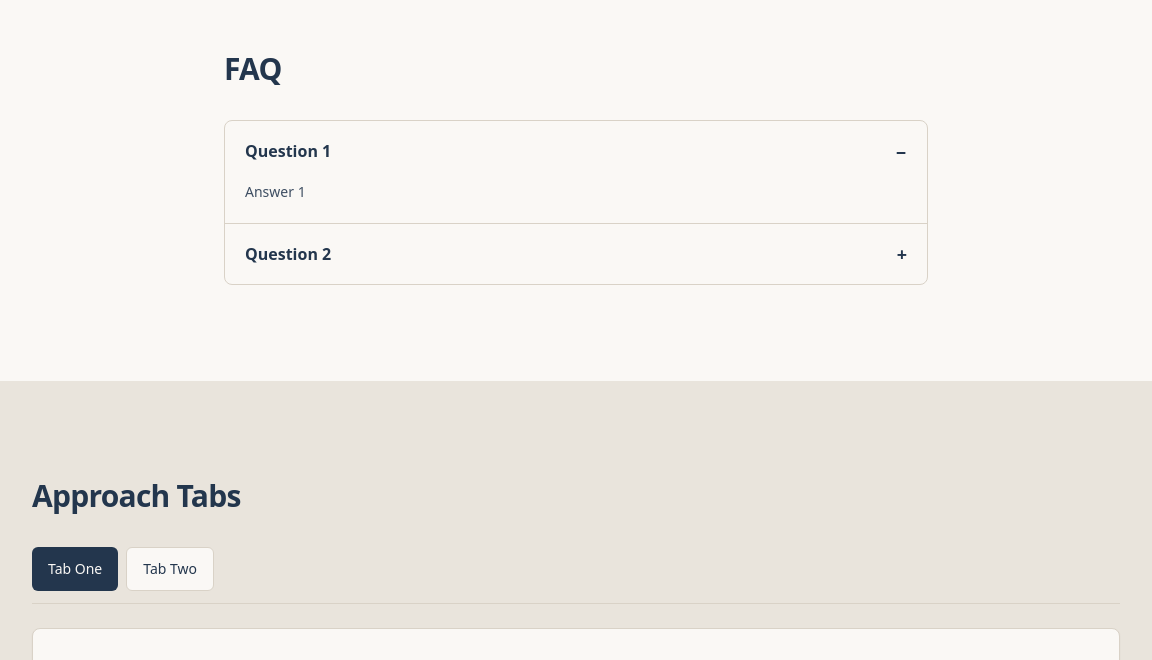
Scenario: P06 Section Registry, Ordering, Visibility & Credibility Gates › supports accessible FAQ Accordion and keyboard-navigable Tabs
Click the button "Question 2 +" at (288, 254), box [225,224,927,284]
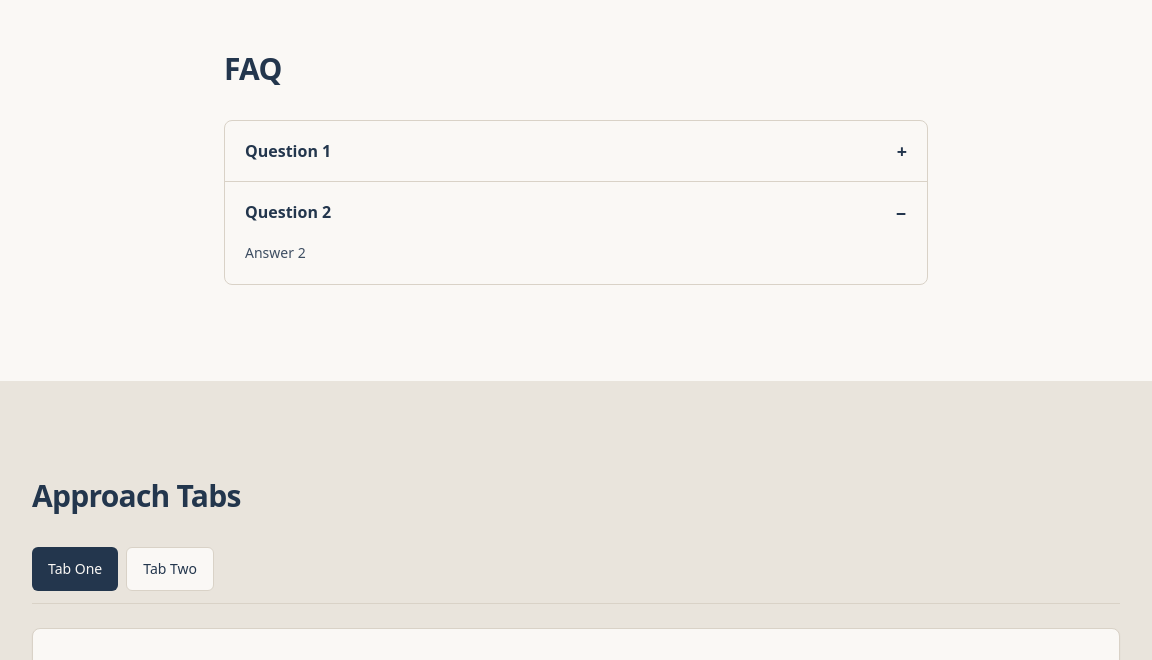
Now the button "Question 1 +" is collapsed, box [225,120,927,180]
Now the button "Question 2 −" is expanded, box [225,182,927,242]
Now the text "Answer 2" is shown, box [245,242,306,262]
Press ArrowRight in the tab "Tab One", box [32,547,118,591]
(page scrolled)
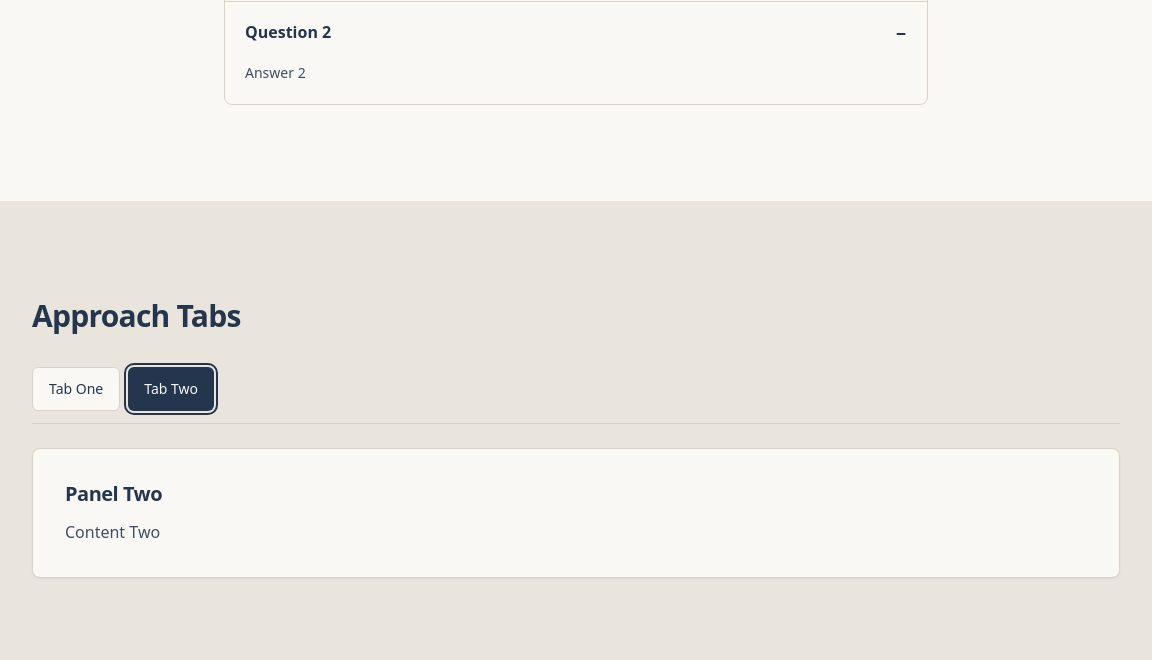
Now the panel shows "Panel Two", box [65,480,162,507]
